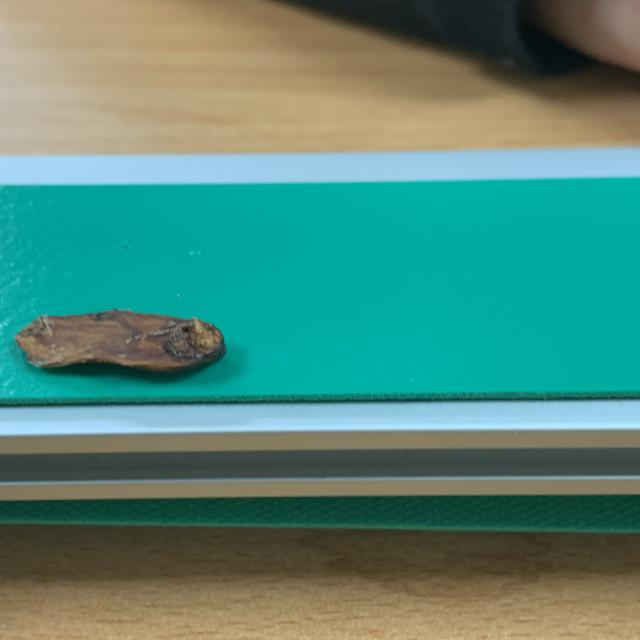Flat_cocoabeans: (0, 287, 272, 397)
